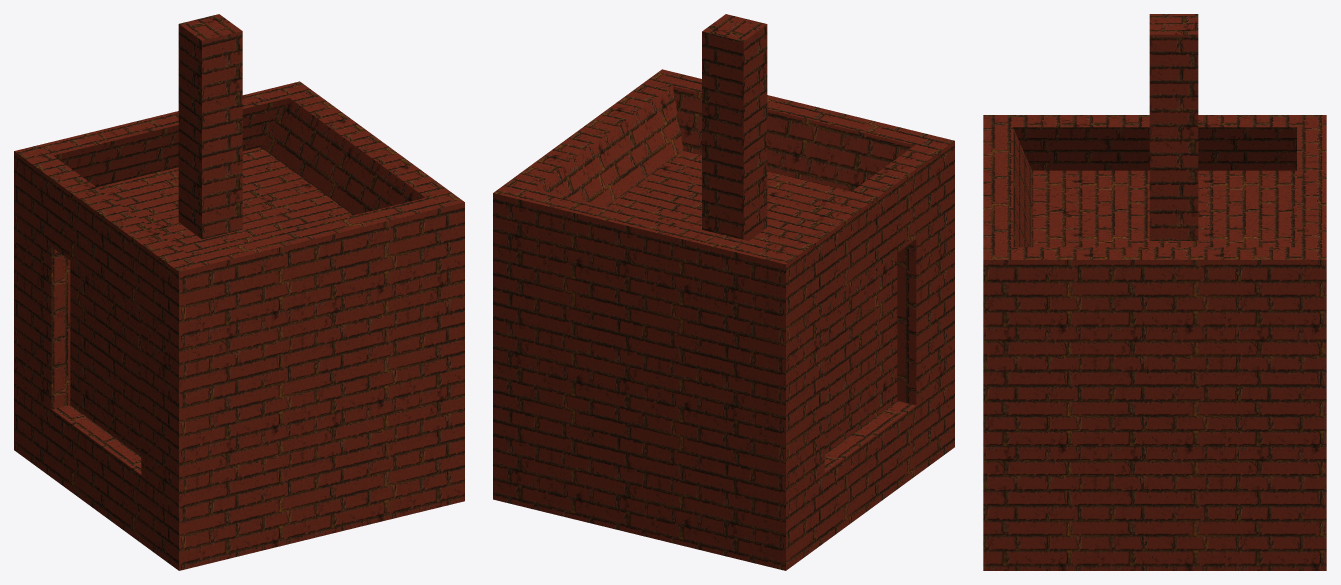
File: spek problem.fbx
3 renders of one model, left to right at view 1: azimuth 30°, elevation 25°; view 2: azimuth 150°, elevation 25°; view 3: azimuth 270°, elevation 25°, orthographic. The views are drawn at different scales.
Parts seen in each view (by area): view 1: Cube; view 2: Cube; view 3: Cube.
Boxes of the visible parts, <box> form: Cube: <box>14,14,464,570</box>; Cube: <box>493,14,954,570</box>; Cube: <box>983,14,1326,570</box>.
Size of the model in its own units: 2 by 2.98 by 2.
Materials: 1 (1 with a texture image).
